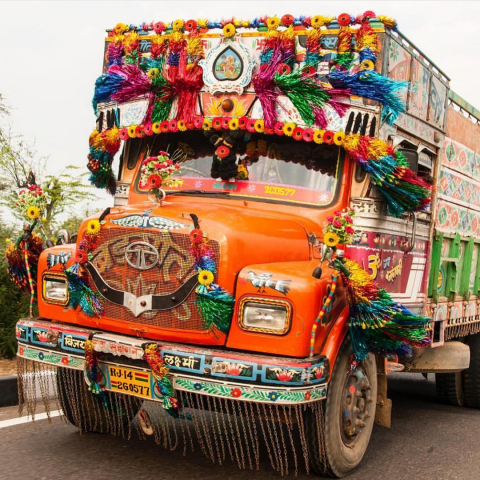truck: (21, 25, 478, 465)
